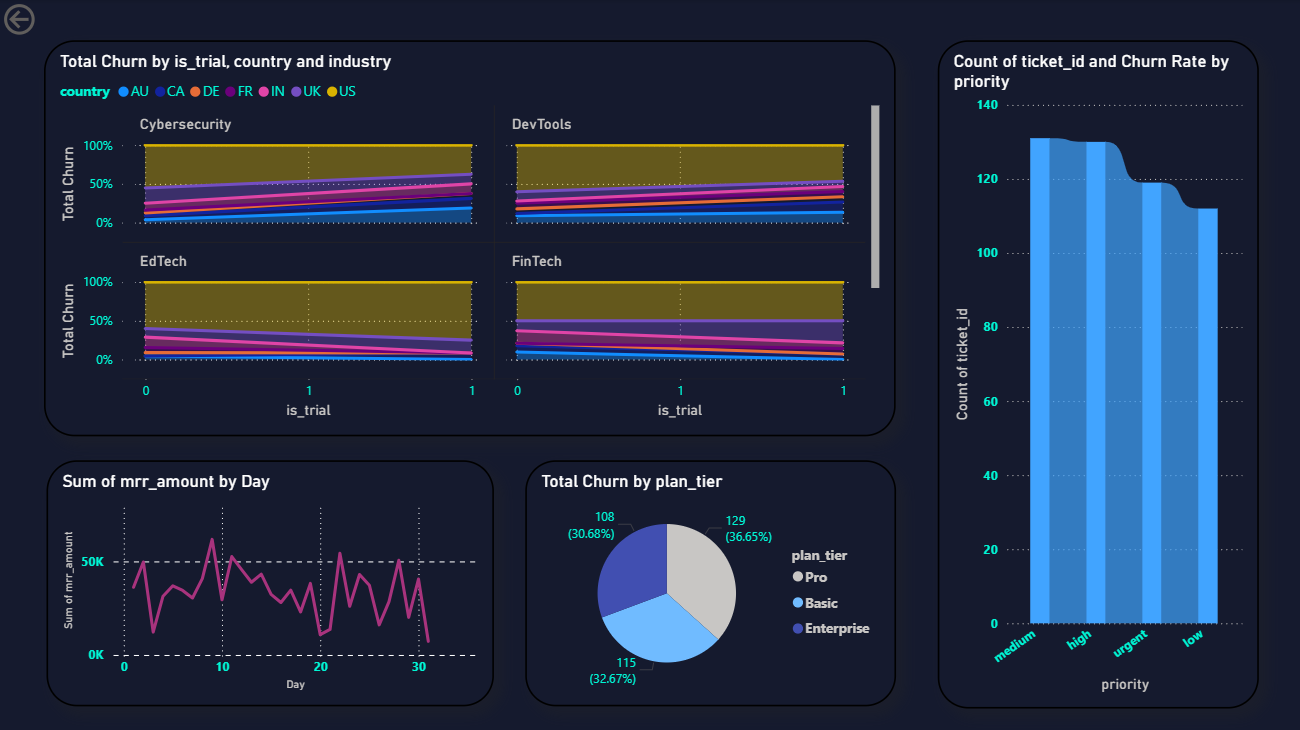

This screenshot's page, from the dashboard's own definition file:
{"tool":"powerbi","page":{"name":"Page 2","canvas":[1280,720],"ordinal":1},"visuals":[{"type":"actionButton","box":[0,0,100,40],"z":0},{"type":"hundredPercentStackedAreaChart","fields":{"Y":["ravenstack_accounts.Total Churn"],"Category":["ravenstack_accounts.is_trial","ravenstack_churn_events.refund_amount_usd","ravenstack_subscriptions.downgrade_flag","ravenstack_subscriptions.upgrade_flag"],"Series":["ravenstack_accounts.country"],"Rows":["ravenstack_accounts.industry"]},"box":[44.5,40.6,836.1,389],"z":1000},{"type":"lineChart","fields":{"Category":["ravenstack_subscriptions.start_date.Variation.Date Hierarchy.Day"],"Y":["Sum(ravenstack_subscriptions.mrr_amount)"]},"box":[46.5,452.9,439.4,241.9],"z":2000},{"type":"ribbonChart","fields":{"Category":["ravenstack_support_tickets.priority"],"Y":["CountNonNull(ravenstack_support_tickets.ticket_id)"]},"box":[921.3,40.6,315.5,656.1],"z":3000},{"type":"pieChart","fields":{"Category":["ravenstack_accounts.plan_tier"],"Y":["ravenstack_accounts.Total Churn"]},"box":[516.8,452.9,363.9,241.9],"z":4000}]}

Visuals, with their boxes in screenshot pixels (x1, y1, x2, y2), scaled from the page's 1280x720 canvas onto the 1300x730 screenshot:
actionButton: left=0, top=0, right=102, bottom=41
hundredPercentStackedAreaChart - ravenstack_accounts.Total Churn x ravenstack_accounts.is_trial: left=45, top=41, right=894, bottom=436
lineChart - ravenstack_subscriptions.start_date.Variation.Date Hierarchy.Day x Sum(ravenstack_subscriptions.mrr_amount): left=47, top=459, right=493, bottom=704
ribbonChart - ravenstack_support_tickets.priority x CountNonNull(ravenstack_support_tickets.ticket_id): left=936, top=41, right=1256, bottom=706
pieChart - ravenstack_accounts.plan_tier x ravenstack_accounts.Total Churn: left=525, top=459, right=894, bottom=704
